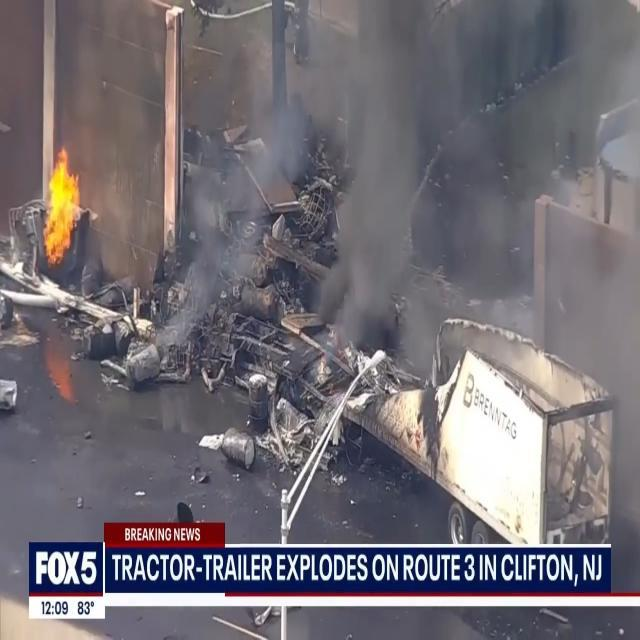fire: (37, 138, 83, 268)
